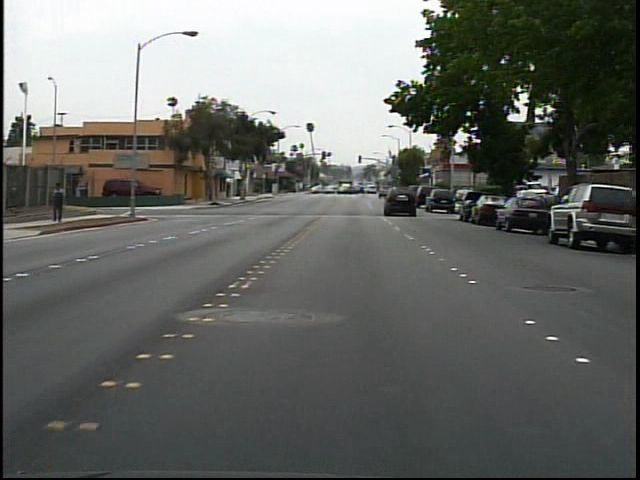person: (48, 178, 73, 228)
